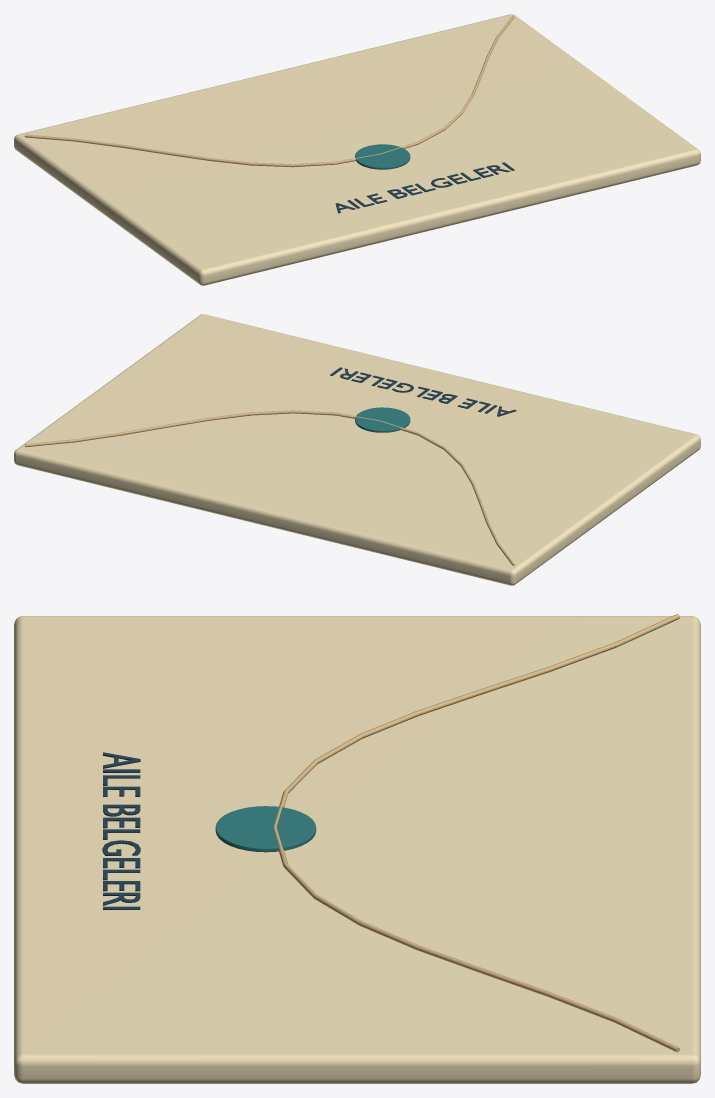
The model's file is Documents.fbx.
3 renders of one model, top to bottom at view 1: azimuth 30°, elevation 25°; view 2: azimuth 150°, elevation 25°; view 3: azimuth 270°, elevation 25°, orthographic. The views are drawn at different scales.
Parts seen in each view (by area): view 1: Surface_KKTC_Paper, Surface_KKTC_Webbing, Surface_KKTC_CanvasTeal, Surface_KKTC_BlueInk; view 2: Surface_KKTC_Paper, Surface_KKTC_Webbing, Surface_KKTC_CanvasTeal, Surface_KKTC_BlueInk; view 3: Surface_KKTC_Paper, Surface_KKTC_Webbing, Surface_KKTC_CanvasTeal, Surface_KKTC_BlueInk.
Part boxes in pixels (left/top/right/bottom): Surface_KKTC_Paper: left=14, top=14, right=700, bottom=285; Surface_KKTC_Webbing: left=24, top=15, right=514, bottom=167; Surface_KKTC_CanvasTeal: left=355, top=144, right=410, bottom=169; Surface_KKTC_BlueInk: left=335, top=162, right=514, bottom=213; Surface_KKTC_Paper: left=14, top=314, right=700, bottom=585; Surface_KKTC_Webbing: left=24, top=410, right=514, bottom=566; Surface_KKTC_CanvasTeal: left=355, top=407, right=410, bottom=432; Surface_KKTC_BlueInk: left=330, top=367, right=516, bottom=416; Surface_KKTC_Paper: left=14, top=616, right=700, bottom=1083; Surface_KKTC_Webbing: left=273, top=614, right=679, bottom=1052; Surface_KKTC_CanvasTeal: left=215, top=806, right=316, bottom=852; Surface_KKTC_BlueInk: left=102, top=752, right=140, bottom=909.
Bounding box in the file's own units: 23 × 0.902 × 15.
